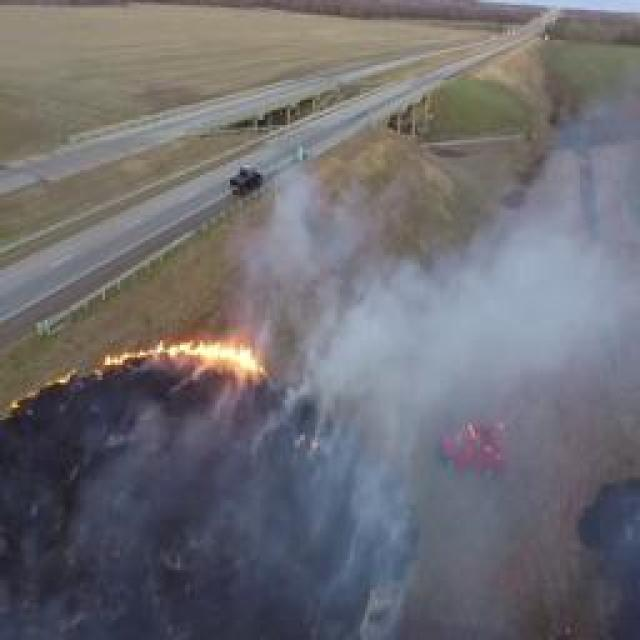Fire: (178, 332, 266, 370), (98, 335, 166, 362)
Smoke: (328, 209, 640, 450)
